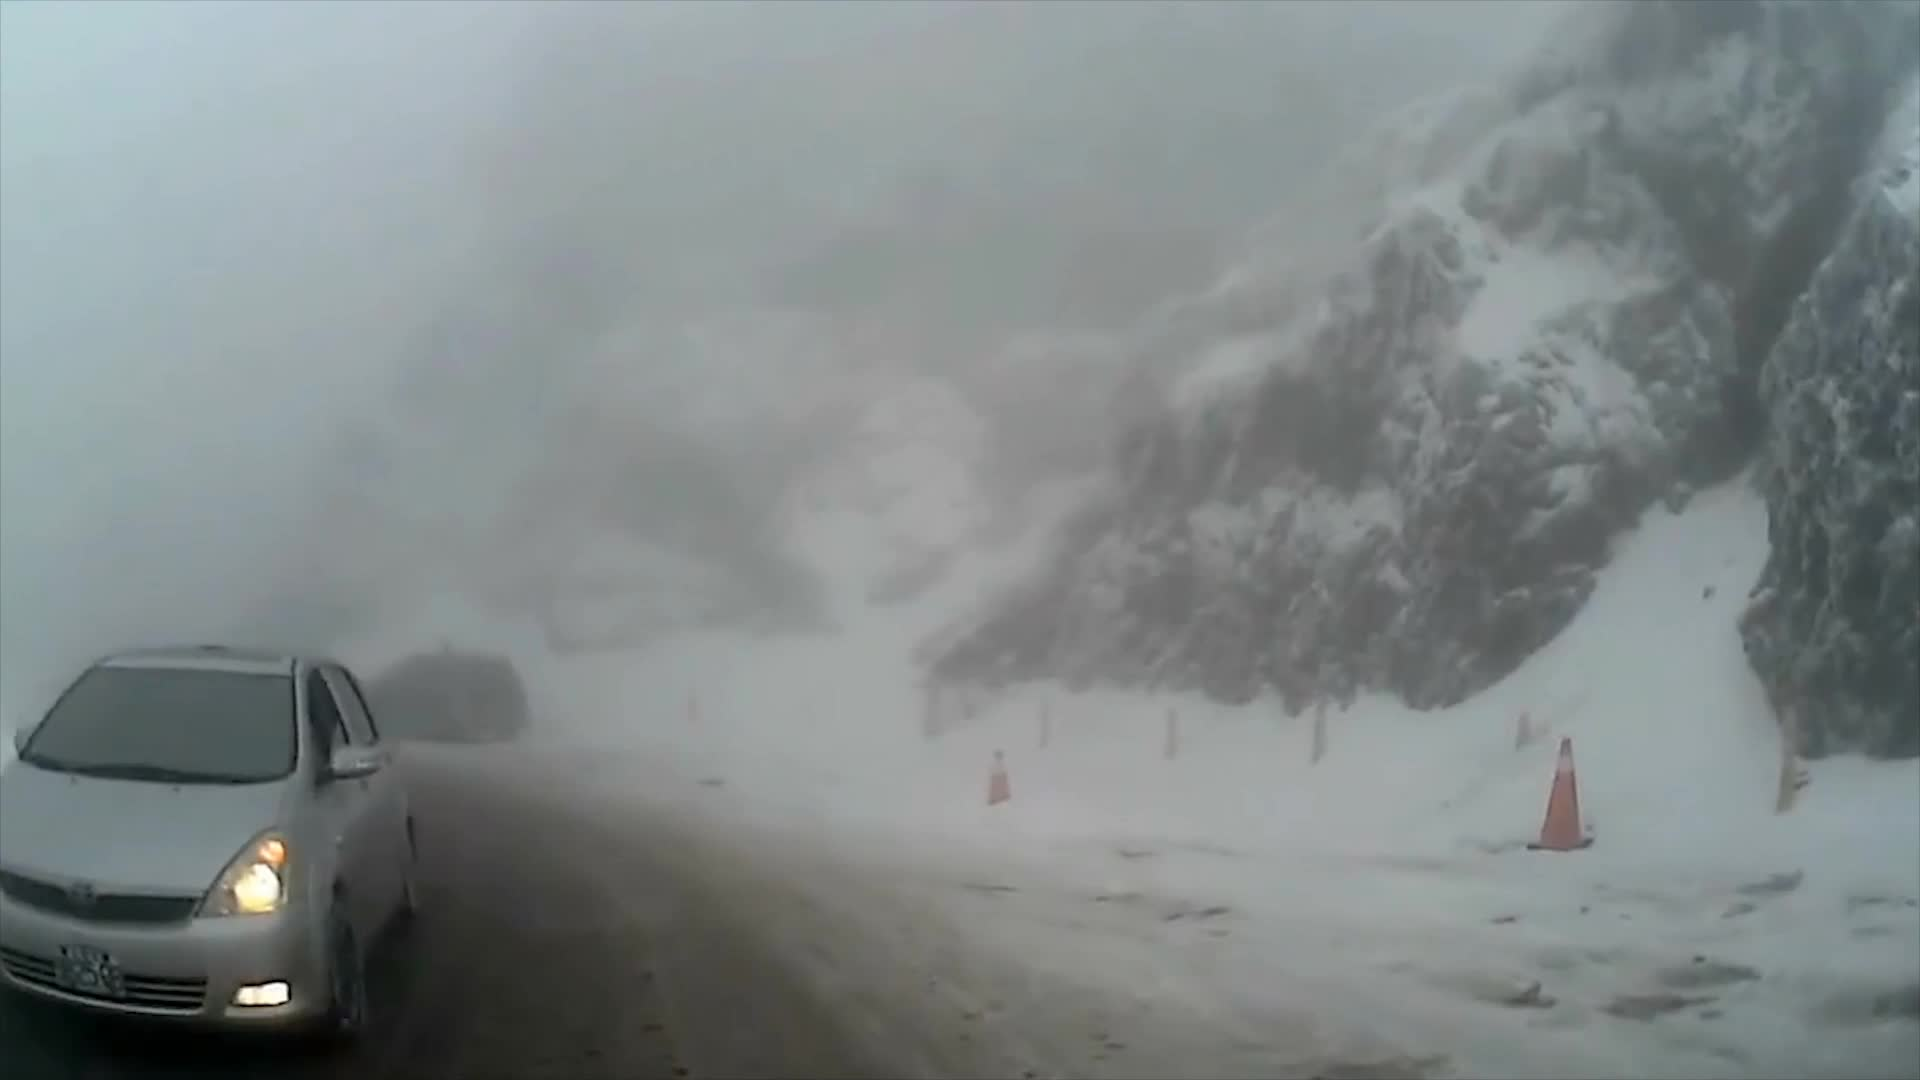vehicle: (0, 641, 427, 1058)
